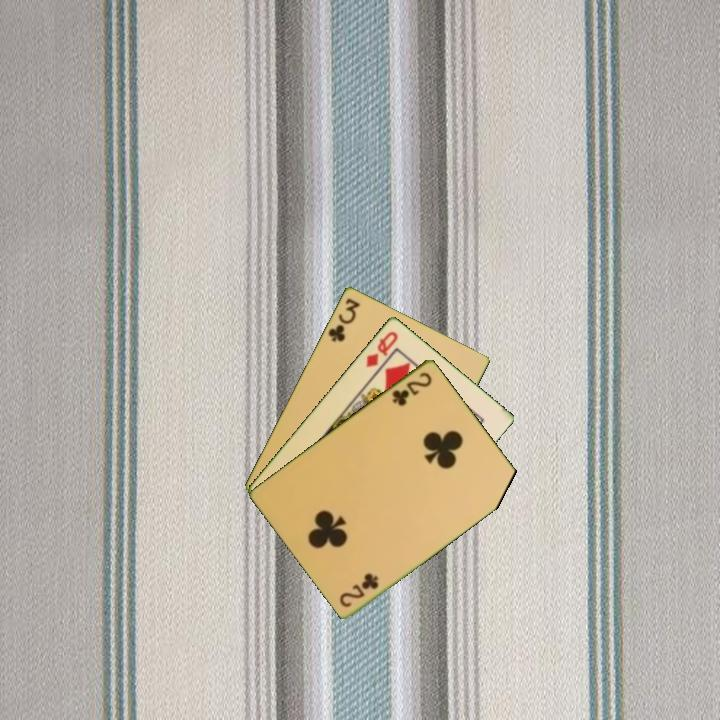2c: (388, 368, 435, 409), (336, 570, 382, 610)
3c: (324, 294, 363, 345)
Qd: (362, 327, 401, 370)
